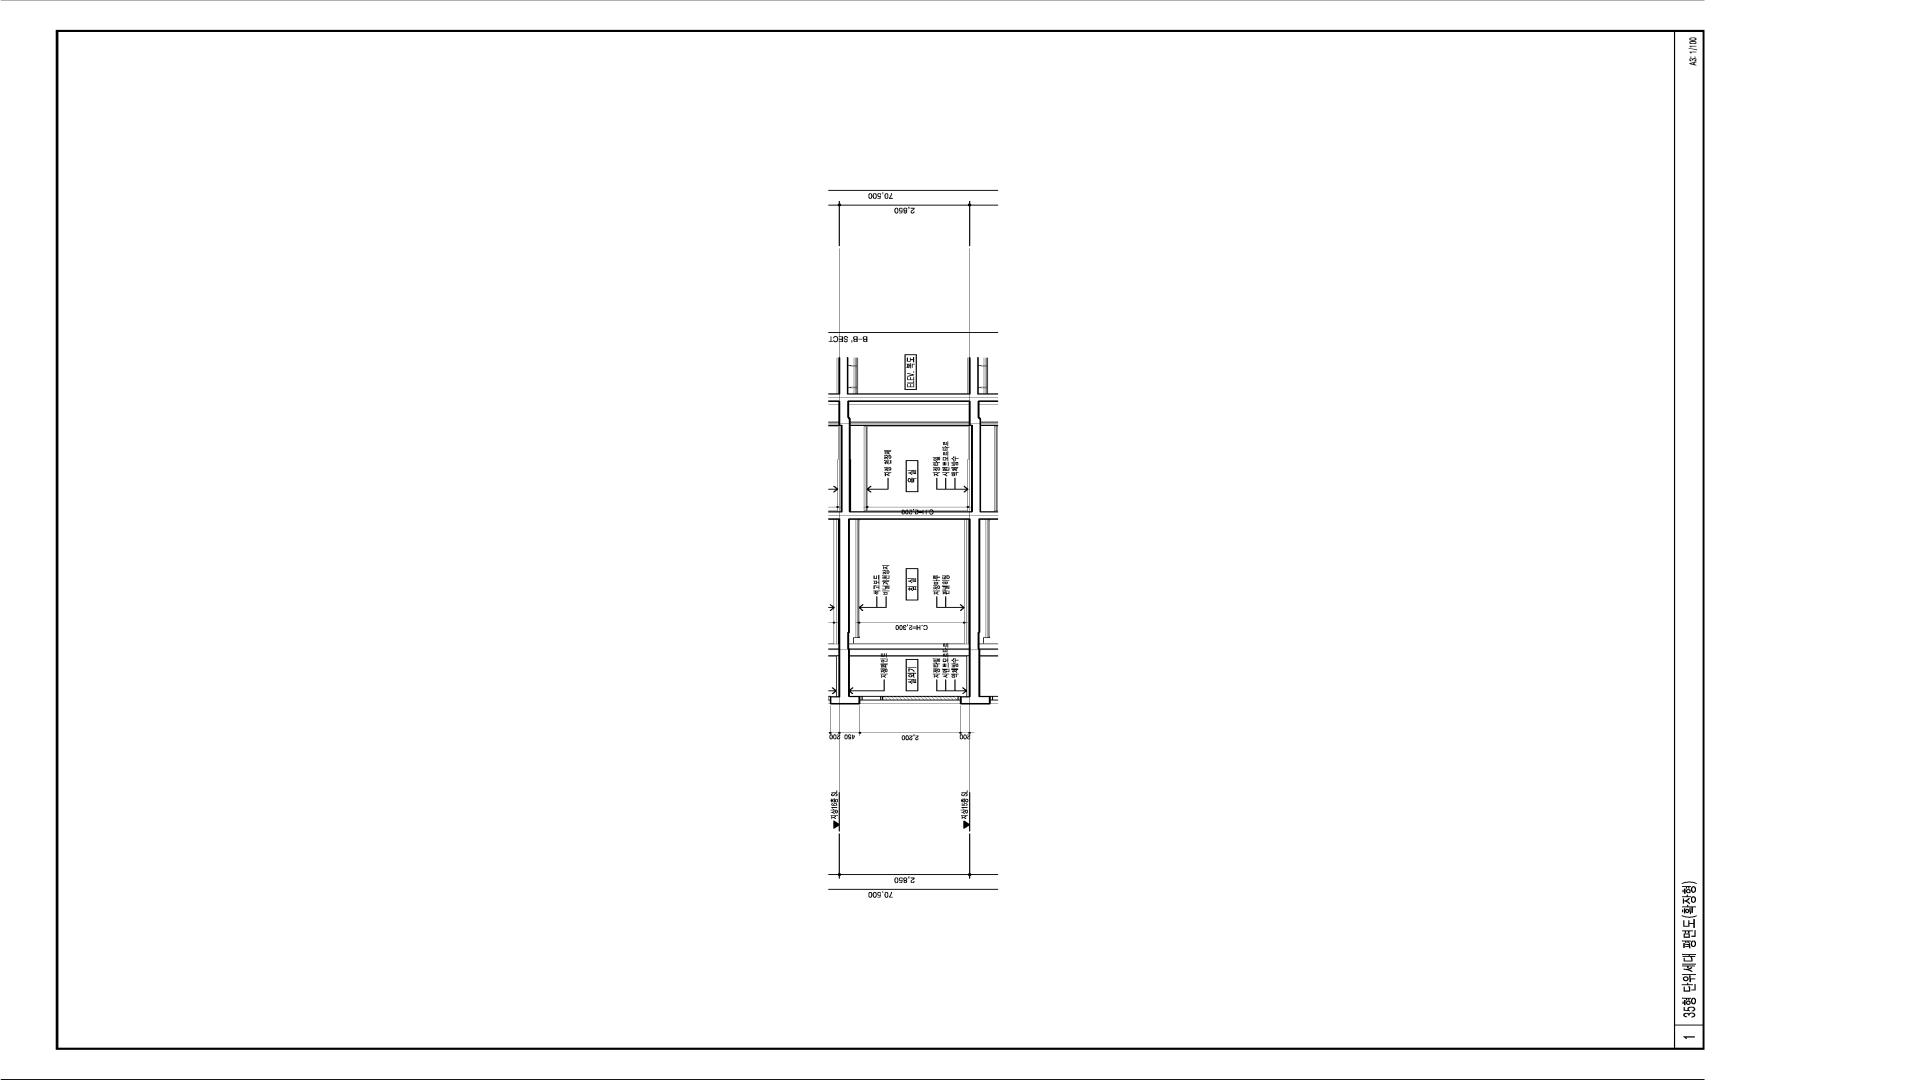wall: (838, 357, 969, 705), (960, 357, 981, 705), (850, 649, 969, 657), (861, 696, 960, 704), (851, 422, 969, 426)
